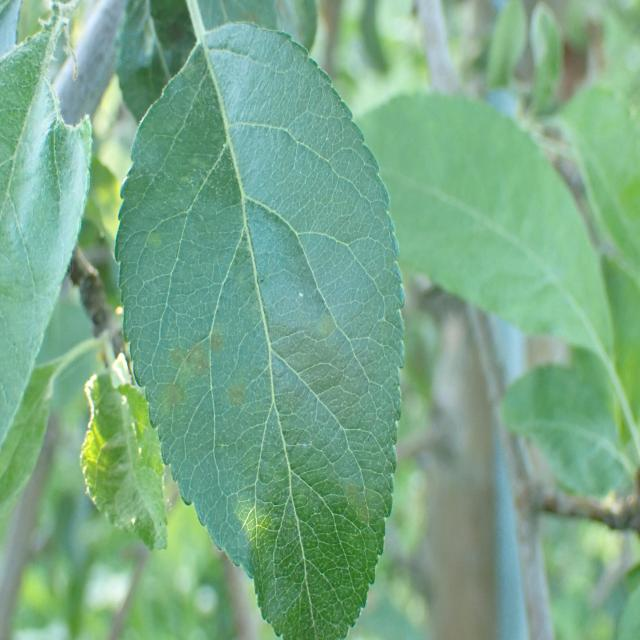scab: (147, 214, 393, 640)
